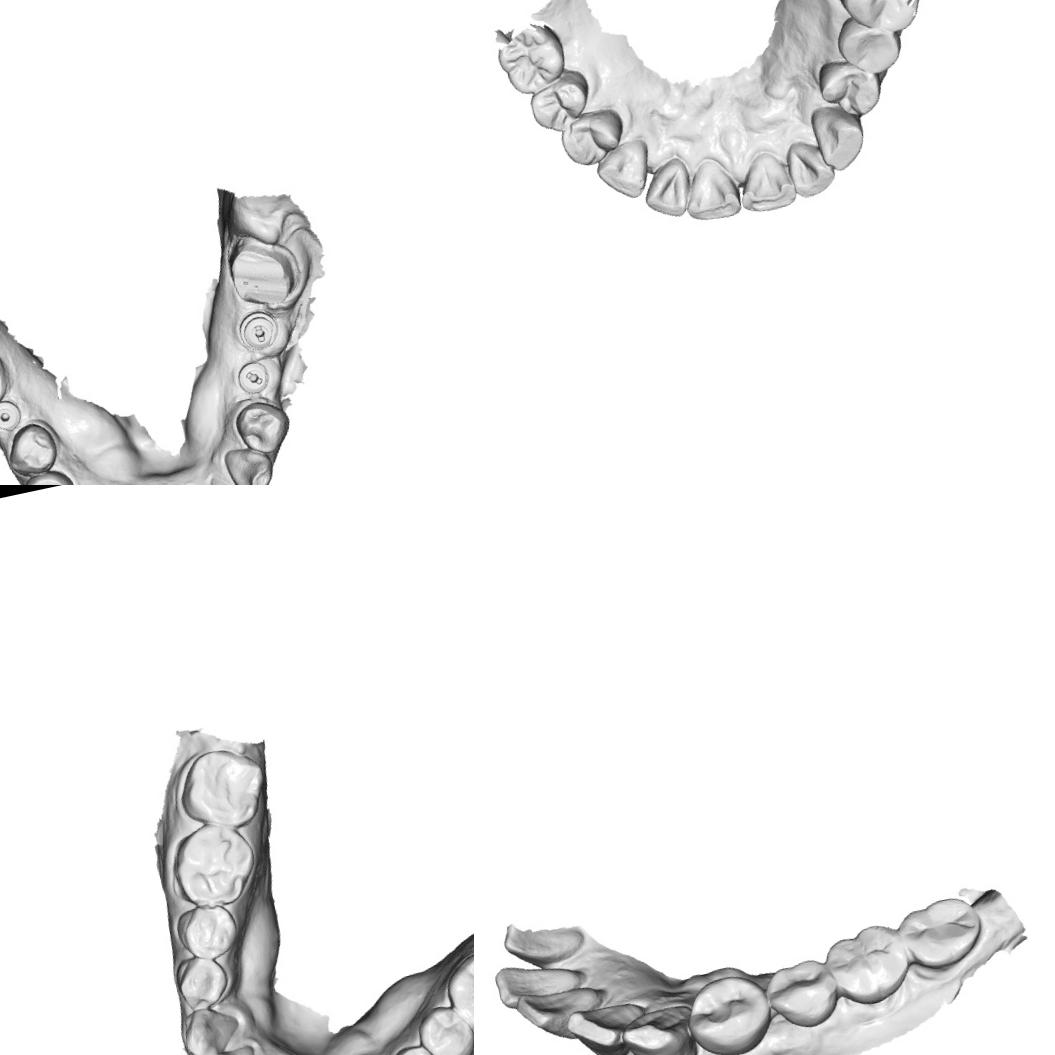canine: (618, 996, 703, 1055), (807, 98, 871, 176), (590, 135, 658, 205), (175, 999, 246, 1055), (217, 439, 280, 485)
crown: (222, 229, 307, 316)
implant: (0, 395, 26, 436)
implant_minus: (236, 309, 282, 353), (233, 357, 277, 400)
incisor: (488, 949, 588, 1014), (518, 978, 606, 1046), (732, 145, 800, 216), (676, 154, 744, 225), (567, 996, 646, 1055), (637, 154, 697, 223), (782, 134, 839, 201), (203, 469, 261, 485), (208, 1041, 263, 1055)
molar: (169, 738, 276, 839), (164, 817, 267, 916), (818, 917, 916, 1014), (893, 890, 991, 978), (490, 15, 572, 100), (438, 941, 474, 1049)
premolar: (679, 968, 779, 1055), (761, 951, 844, 1037), (830, 5, 907, 81), (813, 51, 887, 125), (523, 67, 597, 138), (170, 899, 246, 966), (556, 106, 630, 170), (230, 394, 297, 460), (172, 950, 236, 1017), (0, 417, 63, 481), (411, 999, 474, 1055), (379, 1038, 448, 1055), (18, 467, 82, 485)
